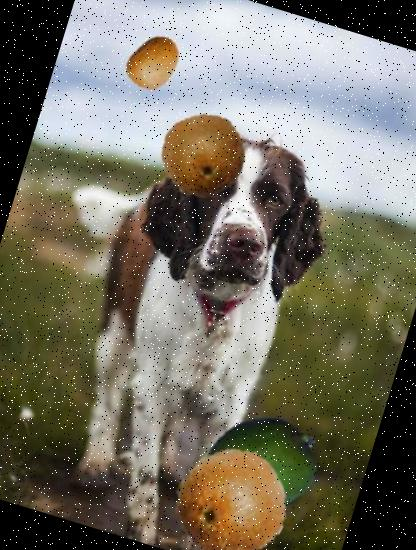Kiwi: (160, 432, 302, 550), (149, 100, 258, 209), (117, 26, 191, 100)
Mango: (186, 390, 334, 540)
